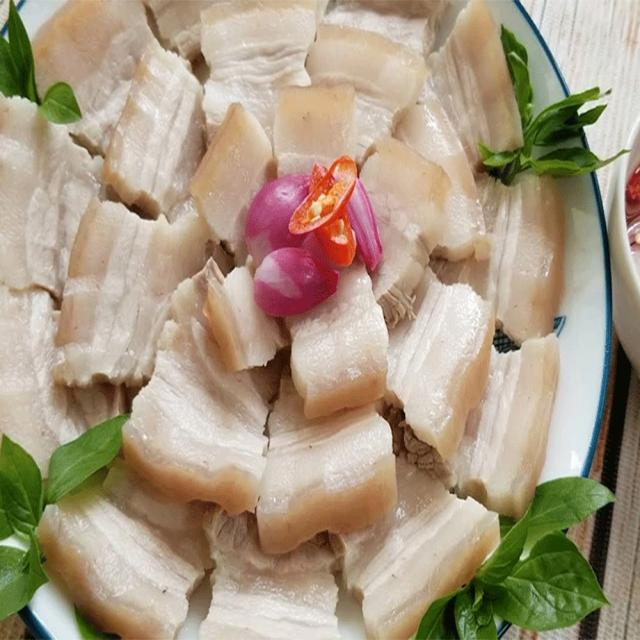ot: (289, 156, 356, 265)
rau ngo: (0, 415, 128, 619), (454, 478, 614, 639), (479, 27, 618, 185), (0, 0, 81, 123)
thit luoc: (190, 0, 519, 318), (122, 254, 396, 554), (0, 93, 121, 471), (38, 457, 212, 639), (56, 199, 211, 385), (342, 458, 500, 639), (447, 334, 559, 517), (200, 510, 349, 639), (388, 279, 493, 458), (104, 39, 204, 216), (33, 0, 154, 139), (481, 172, 565, 345)
